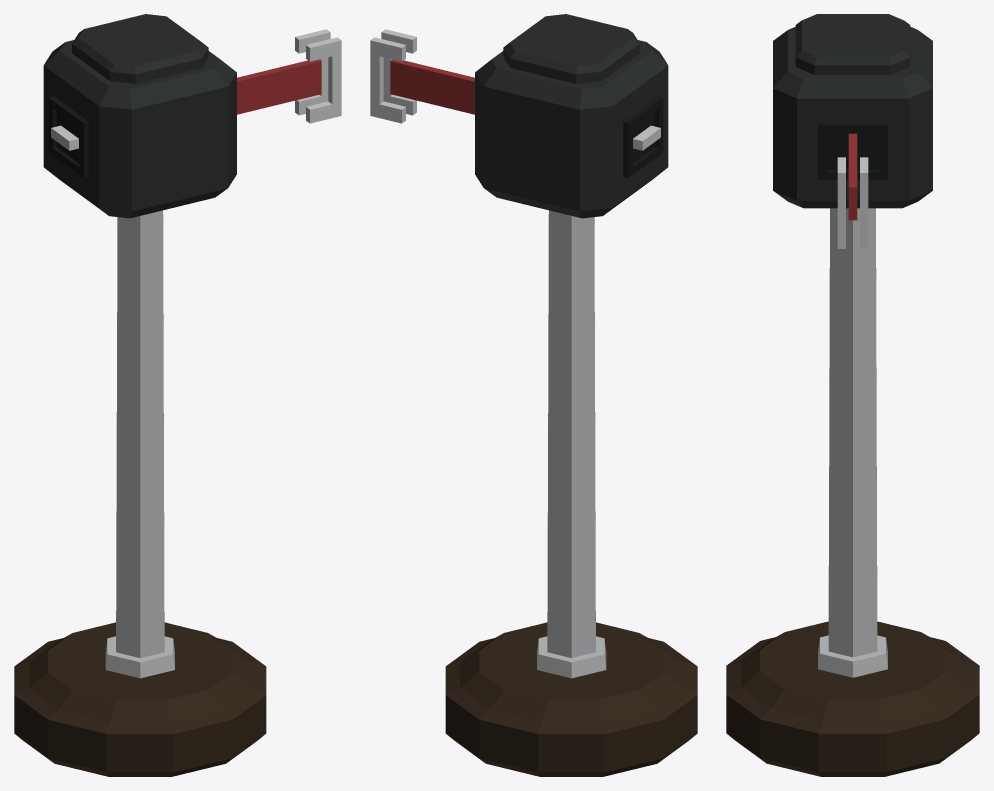
File: queue-belt-post-912b7e.glb
3 renders of one model, left to right at view 1: azimuth 30°, elevation 25°; view 2: azimuth 150°, elevation 25°; view 3: azimuth 270°, elevation 25°, orthographic.
Parts seen in each view (by area): view 1: post, cassette; view 2: post, cassette; view 3: post, cassette.
Part boxes in pixels (x1,y1,x2,y2): post: (14, 210, 266, 776); cassette: (43, 14, 341, 218); post: (445, 210, 697, 776); cassette: (370, 14, 668, 218); post: (726, 208, 979, 776); cassette: (773, 14, 932, 248).
Bounding box in the file's own units: 0.4611 × 1 × 0.3323.
